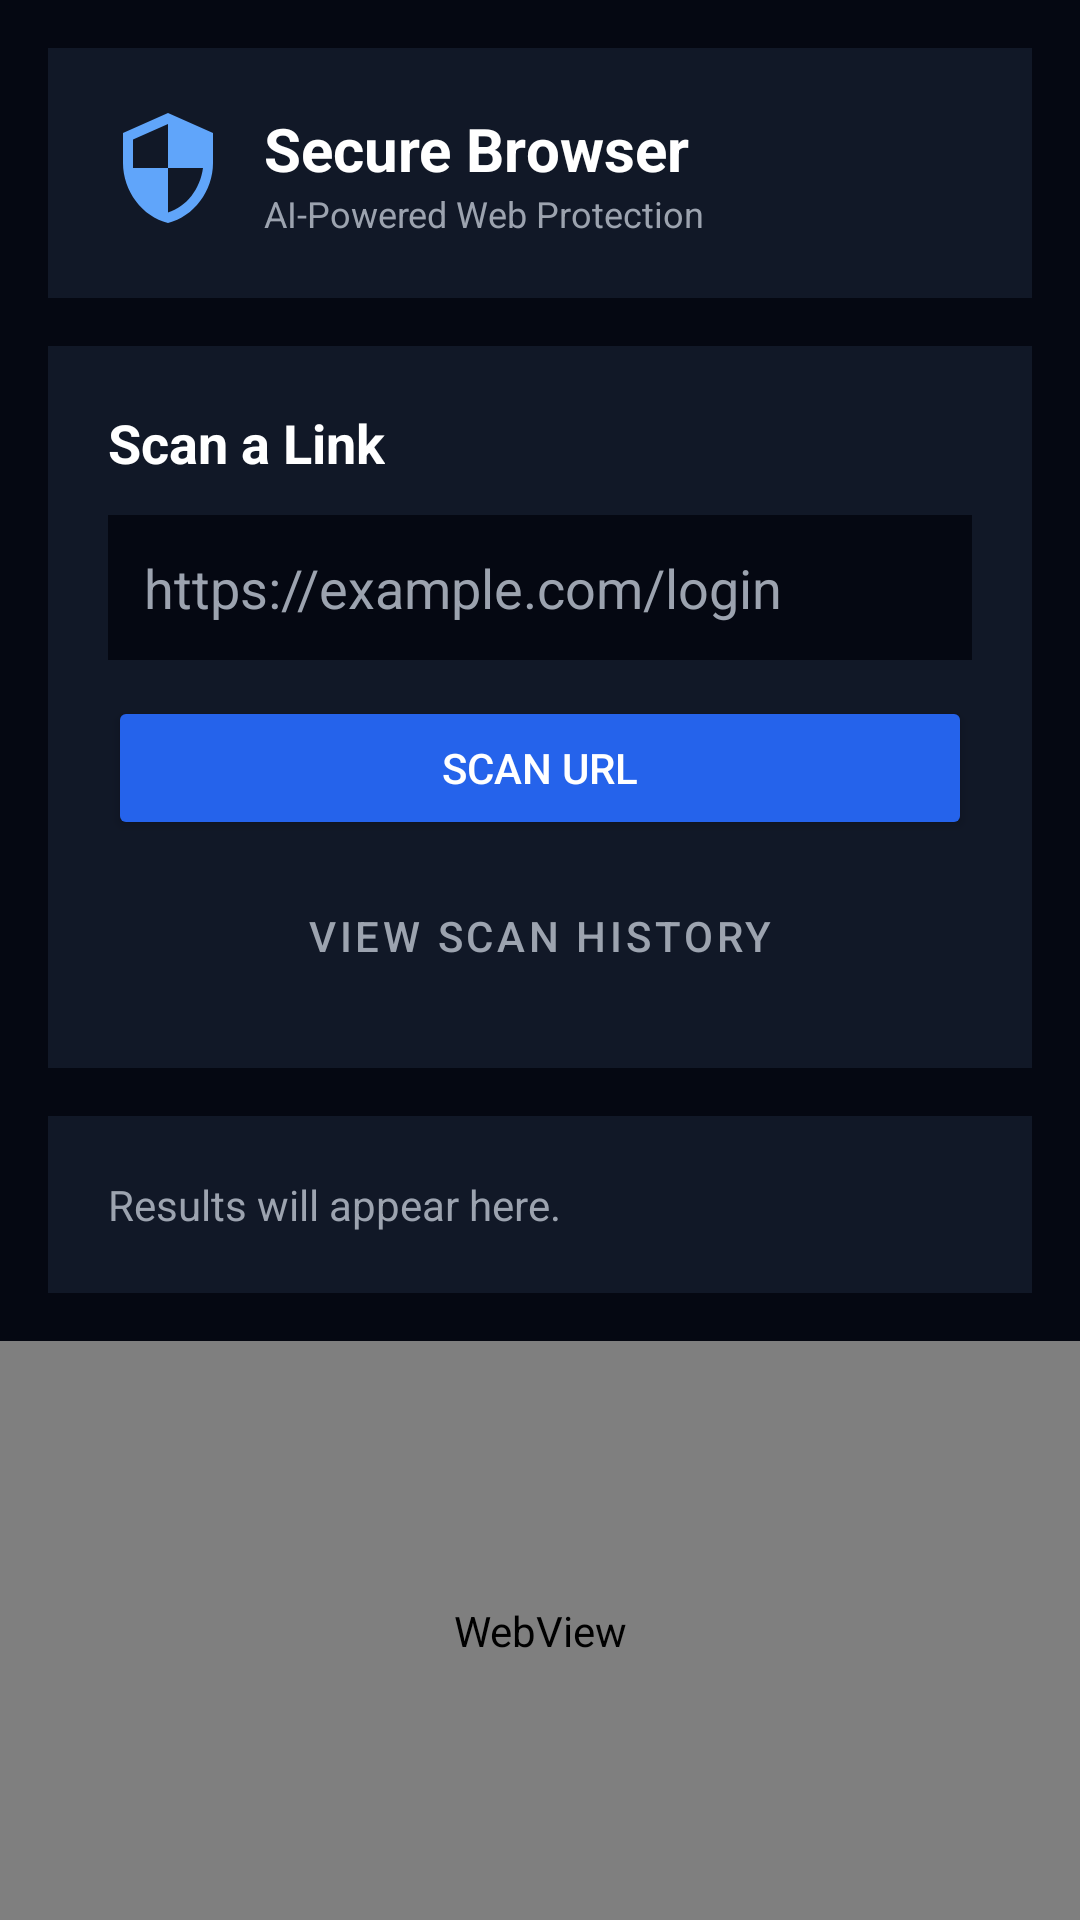

Locate icon controls on the screen. Image size 1080*1920, boxes as (x1, y1, x2, y2).
shield: (123, 113, 213, 223)
